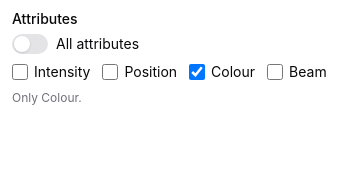
Scenario: the All attributes switch › stays off when the last family is unticked, and says why nothing can be done
Step 1. Click the checkbox labelled "Colour" → (197, 72), box left=189, top=64, right=205, bottom=80
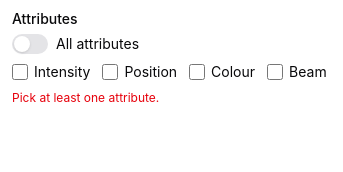
Result: the text "Pick at least one attribute." is shown at left=12, top=90, right=159, bottom=105
